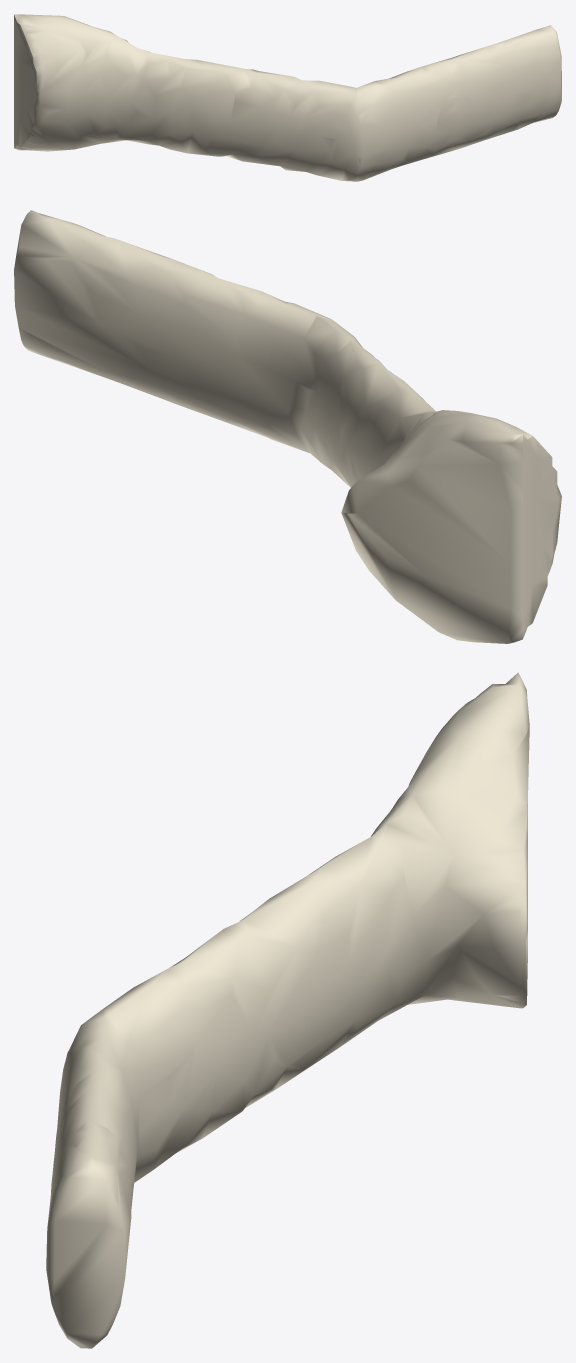
Rendered from jugal_l.glb.
3 views of the same model, one above another, from view 1: azimuth 30°, elevation 25°; view 2: azimuth 150°, elevation 25°; view 3: azimuth 270°, elevation 25° (orthographic). The views are drawn at different scales.
Parts seen in each view (by area): view 1: geometry_0; view 2: geometry_0; view 3: geometry_0.
Part boxes in pixels (x1,y1,x2,y2): geometry_0: [14, 14, 561, 181]; geometry_0: [14, 210, 561, 643]; geometry_0: [46, 672, 529, 1348].
Bounding box in the file's own units: 0.3101 × 0.1013 × 0.1502.
